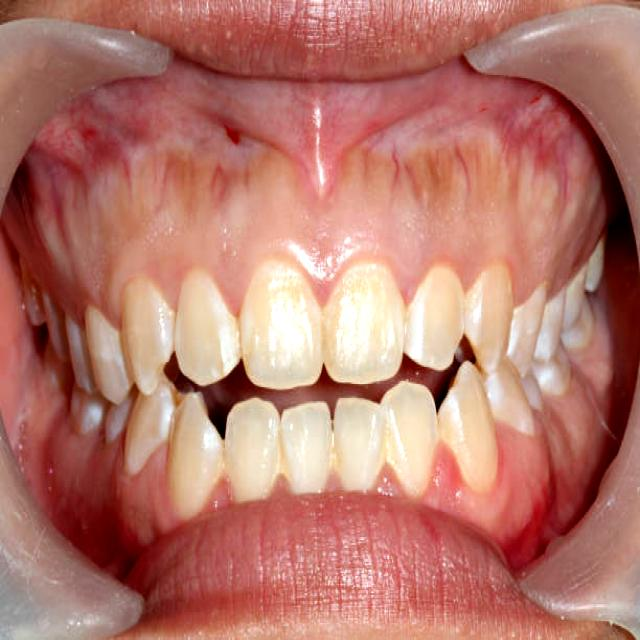gingivitis: (241, 240, 319, 281), (108, 253, 146, 320)
